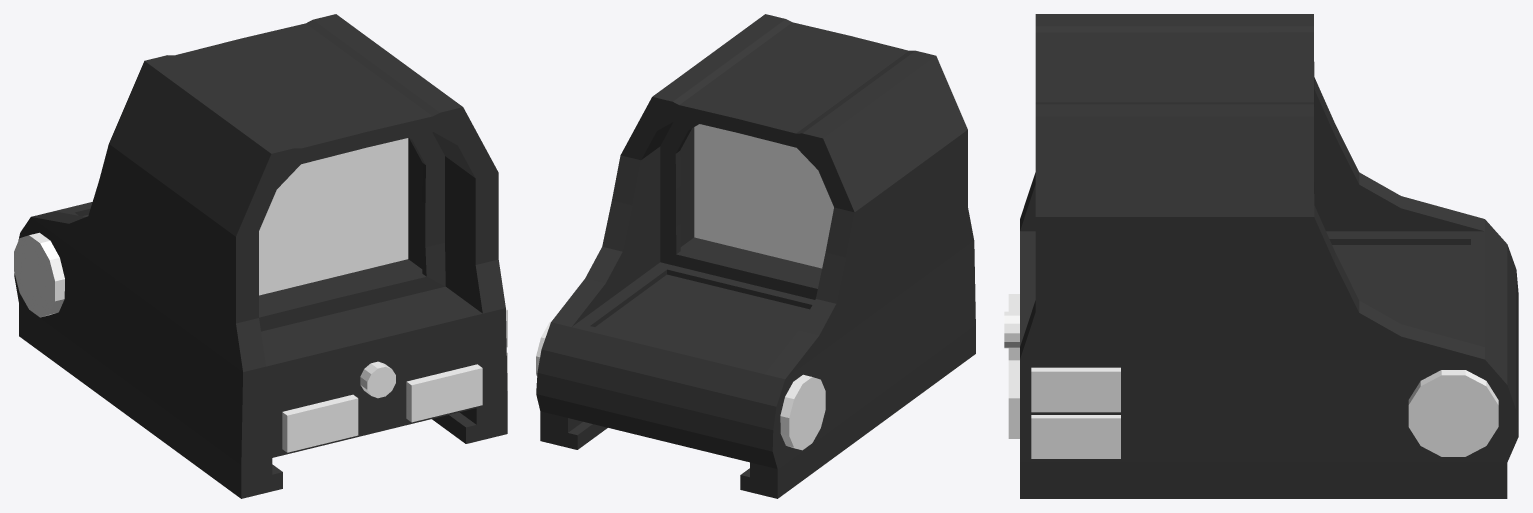
The model's file is Scope_exp.gltf.
3 renders of one model, left to right at view 1: azimuth 30°, elevation 25°; view 2: azimuth 150°, elevation 25°; view 3: azimuth 270°, elevation 25°, orthographic. The views are drawn at different scales.
Parts seen in each view (by area): view 1: Main Body, Screen, Button (×2), cylinder (×2); view 2: Main Body, Screen, cylinder; view 3: Main Body, Button (×3), cylinder (×2).
Part boxes in pixels (<box>): Main Body: <box>14,14,507,498</box>; Screen: <box>259,138,408,295</box>; Button (×2): <box>282,364,482,452</box>; cylinder (×2): <box>14,232,395,398</box>; Main Body: <box>536,14,975,498</box>; Screen: <box>694,124,833,268</box>; cylinder: <box>536,320,825,450</box>; Main Body: <box>1020,14,1518,498</box>; Button (×3): <box>1008,360,1120,458</box>; cylinder (×2): <box>1004,311,1498,456</box>.
Size of the model in its own units: 1 by 1.11 by 1.43.
Materials: 4 (1 with a texture image).
